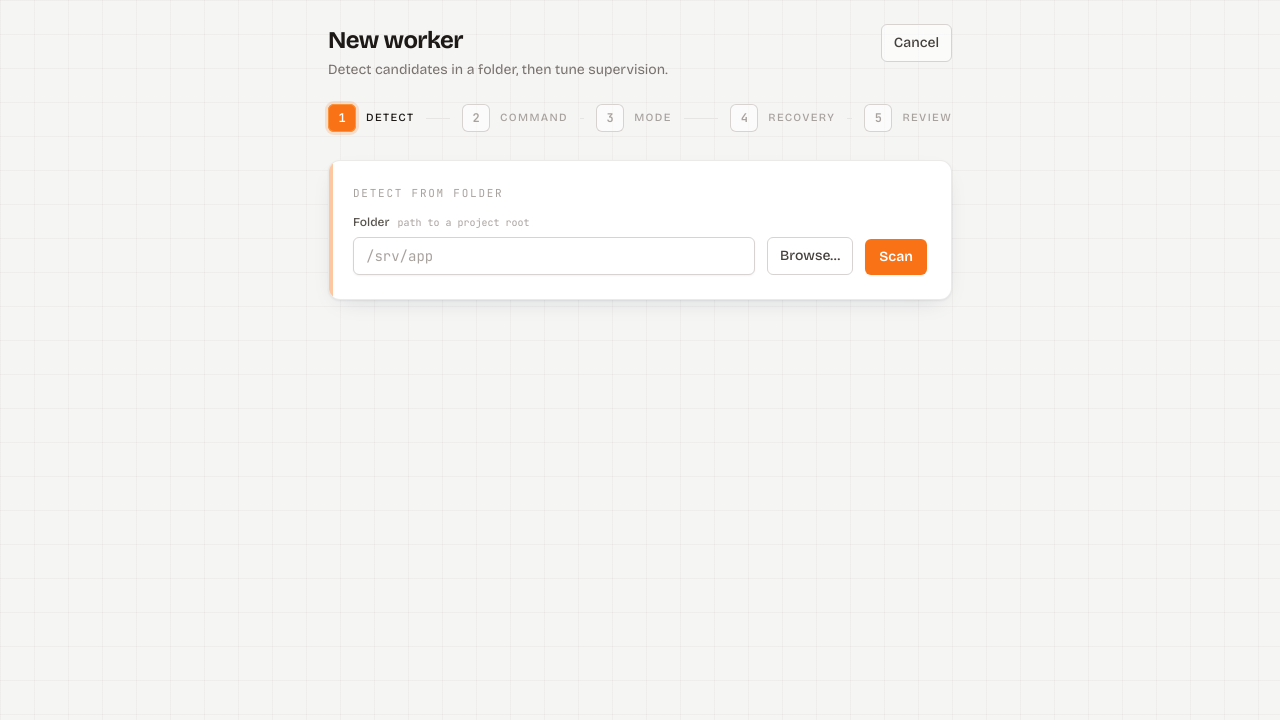
Test: CreateFlow › single selection still advances to the Command step
Click the button "Scan": (896,256) [865,238,927,274]
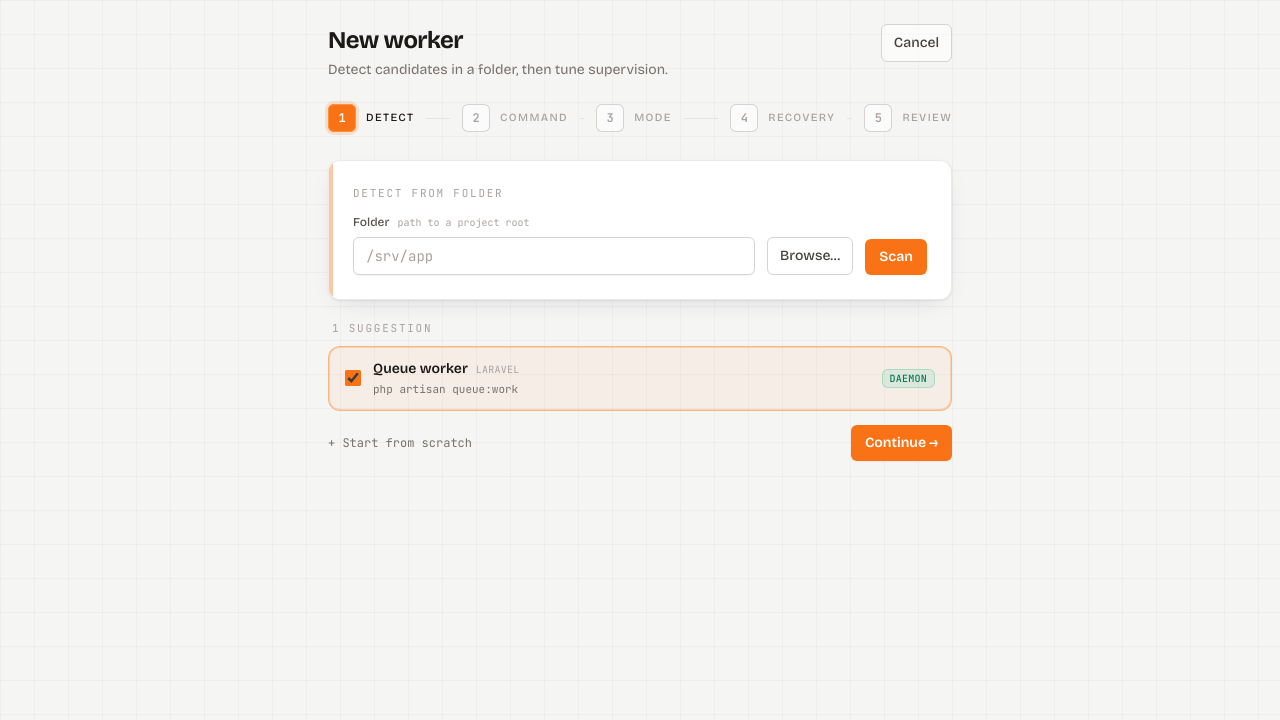
Check: the text "Queue worker" is shown, box [373,359,468,379]
Note: One suggestion, pre-selected → Continue goes to tuning (Command step).
Click the button "Continue →": (901,442) [851,424,952,460]
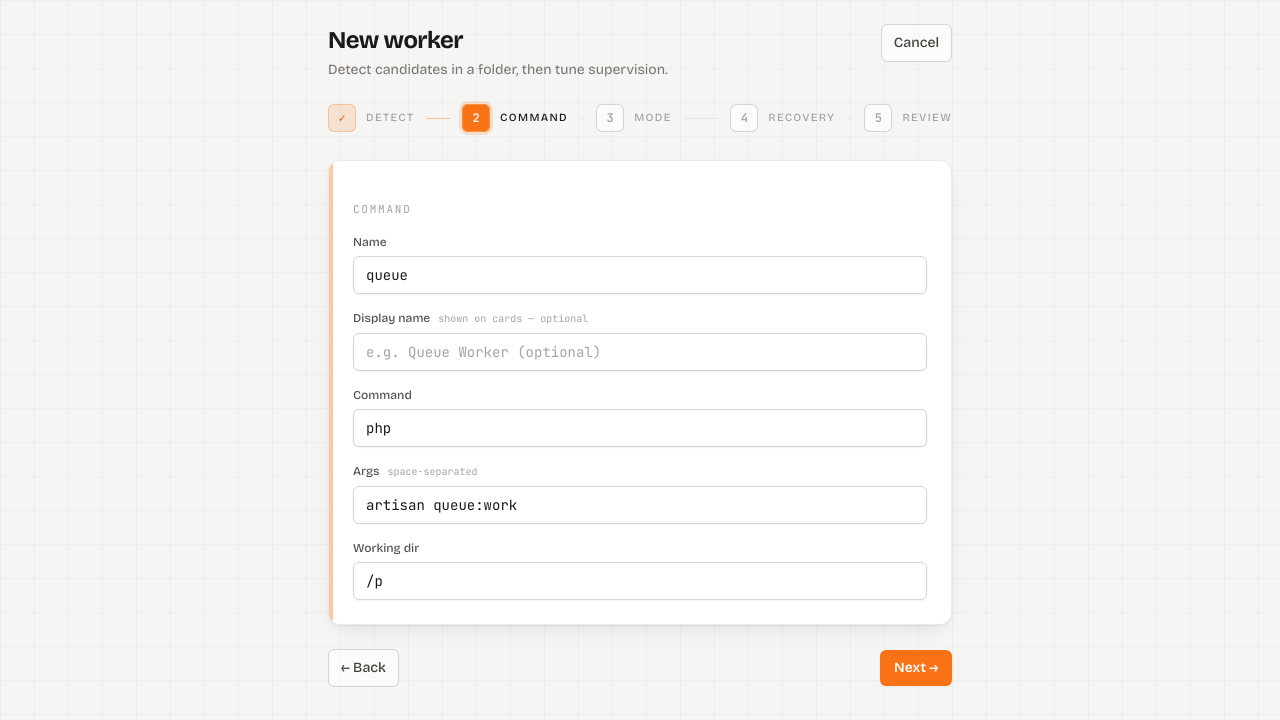
Check: the field labelled "Command" holds "php", box [353,408,927,446]
